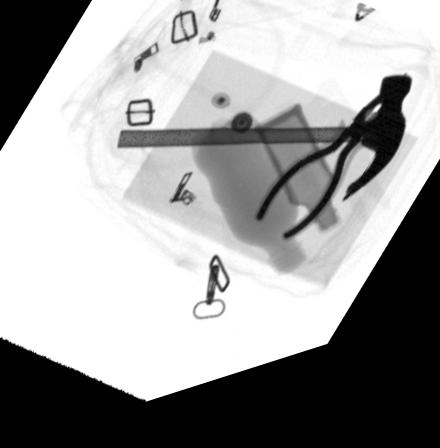Hammer: (116, 101, 413, 224)
Pliers: (256, 99, 410, 257)
